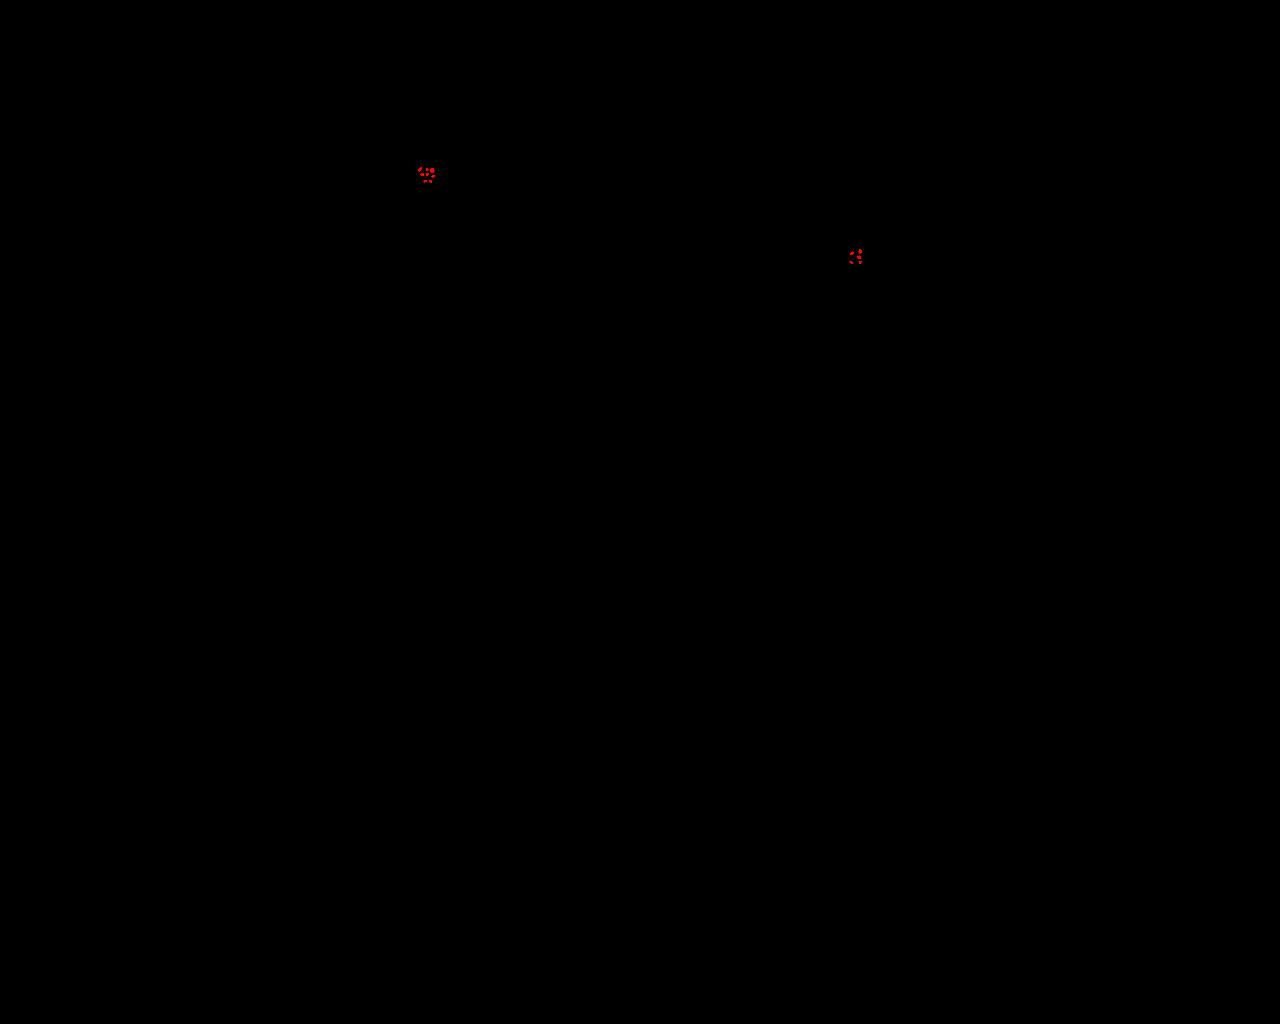Target: (418, 167, 422, 172), (430, 168, 435, 173), (858, 249, 862, 254), (850, 251, 854, 255), (857, 255, 861, 259), (430, 174, 435, 178), (423, 180, 427, 183), (426, 168, 429, 171), (850, 261, 853, 264), (859, 261, 862, 264), (420, 173, 424, 176), (426, 173, 429, 176), (429, 180, 432, 183)
